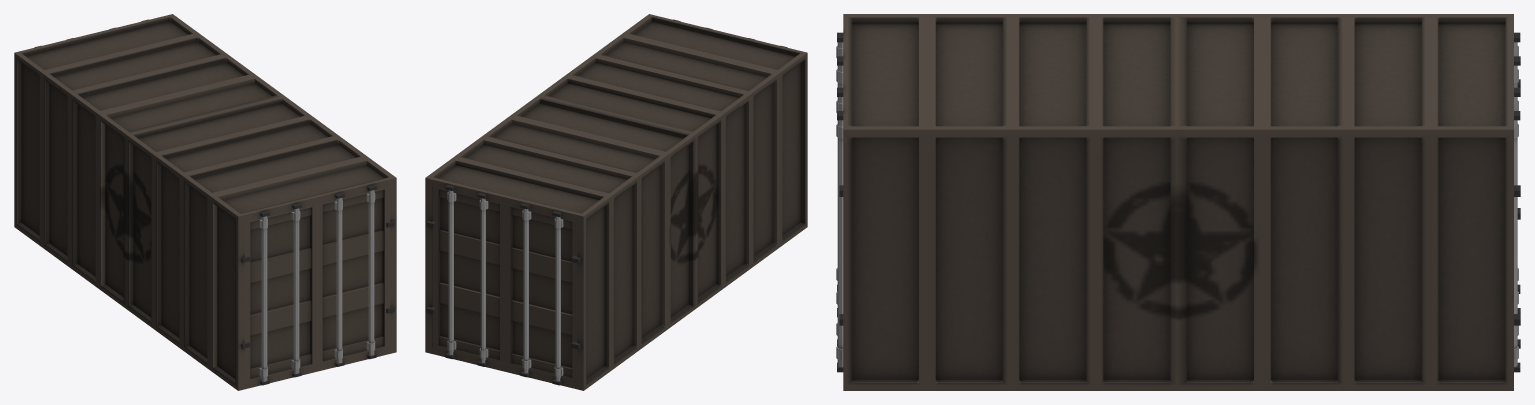
File: Container_Brown.fbx
3 views of the same model, side by side, from view 1: azimuth 30°, elevation 25°; view 2: azimuth 150°, elevation 25°; view 3: azimuth 270°, elevation 25° (orthographic). The views are drawn at different scales.
Visible parts, largest first — view 1: Container_Body_Brown, Container_Door_Brown_1, Container_Door_Brown_2, Container_Pole_1 (×2), Container_Pole_2 (×2); view 2: Container_Body_Brown, Container_Door_Brown_3, Container_Door_Brown_4, Container_Pole_2 (×2), Container_Pole_1 (×2); view 3: Container_Body_Brown, Container_Pole_1 (×2).
Part boxes in pixels (box(x1,y1,x2,y2)): Container_Body_Brown: box(14, 14, 396, 390); Container_Door_Brown_1: box(317, 187, 390, 364); Container_Door_Brown_2: box(244, 204, 317, 381); Container_Pole_1 (×2): box(259, 190, 375, 381); Container_Pole_2 (×2): box(291, 198, 342, 373); Container_Body_Brown: box(425, 14, 807, 390); Container_Door_Brown_3: box(432, 187, 505, 363); Container_Door_Brown_4: box(505, 204, 577, 381); Container_Pole_2 (×2): box(479, 198, 531, 373); Container_Pole_1 (×2): box(447, 190, 563, 381); Container_Body_Brown: box(837, 14, 1520, 390); Container_Pole_1 (×2): box(836, 120, 1518, 367).
Bounding box in the file's own units: 4.44 × 4.67 × 11.09.
